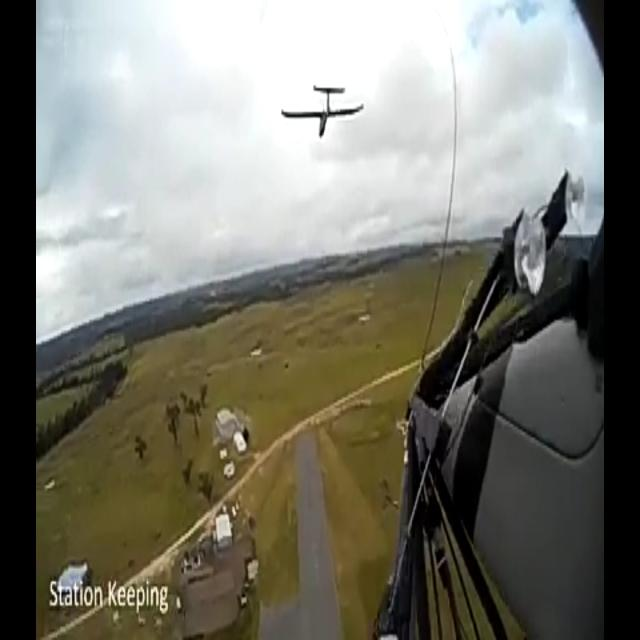iha: (312, 18, 333, 76)
